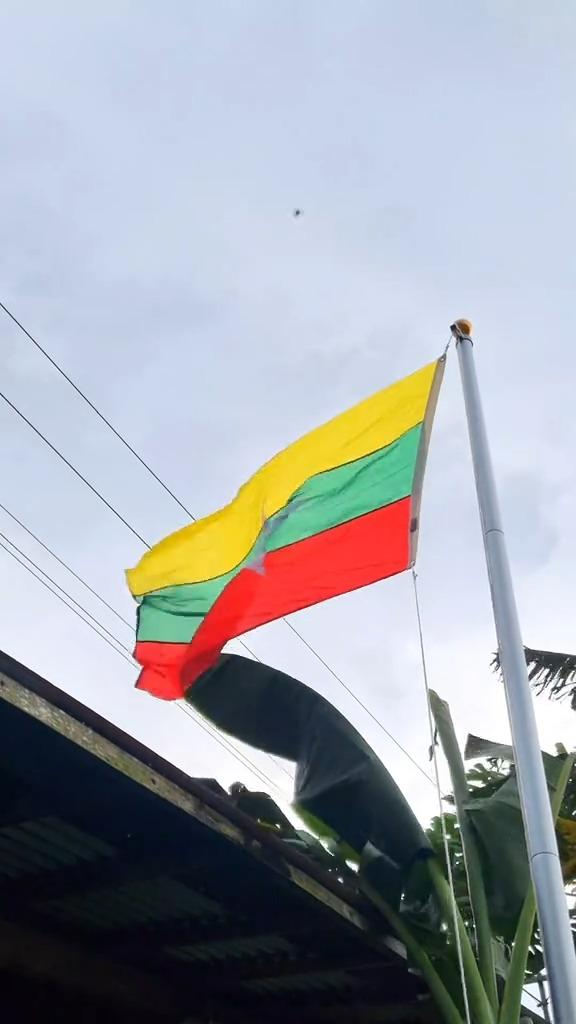Myanmar: (131, 353, 451, 701)
